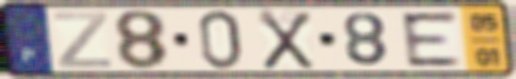0: (195, 8, 247, 71)
8: (112, 8, 174, 72), (342, 11, 392, 68)
E: (397, 10, 465, 69)
X: (255, 8, 316, 71)
Z: (50, 10, 113, 69)
